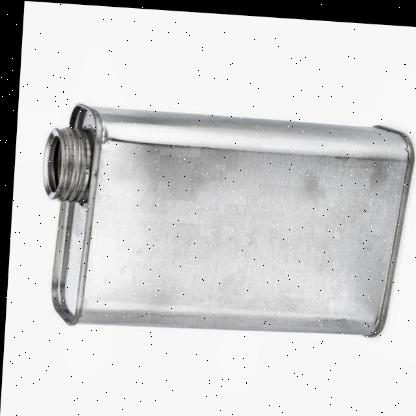Can: (26, 96, 416, 344)
